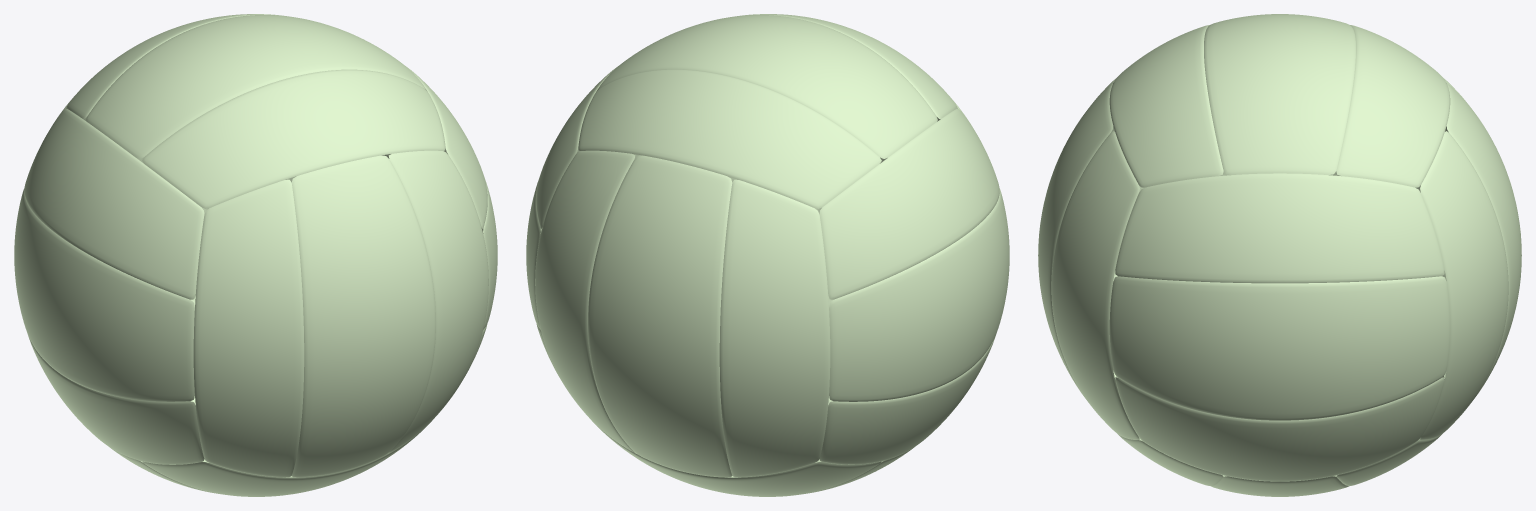
File: volei.glb
3 renders of one model, left to right at view 1: azimuth 30°, elevation 25°; view 2: azimuth 150°, elevation 25°; view 3: azimuth 270°, elevation 25°, orthographic.
Parts seen in each view (by area): view 1: Volleyball; view 2: Volleyball; view 3: Volleyball.
Part boxes in pixels (left/top/right/bottom): Volleyball: left=14, top=14, right=497, bottom=496; Volleyball: left=526, top=14, right=1009, bottom=496; Volleyball: left=1038, top=14, right=1521, bottom=496.
Bounding box in the file's own units: 1.9 × 1.9 × 1.9.
